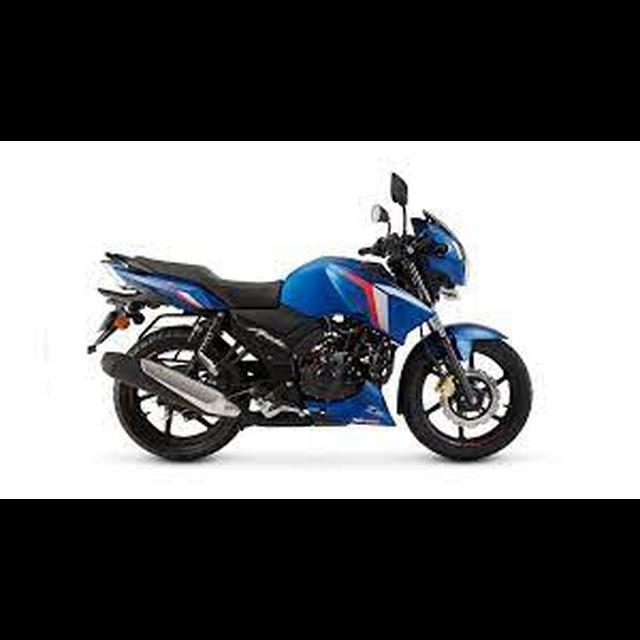motorcycle: (79, 165, 538, 469)
